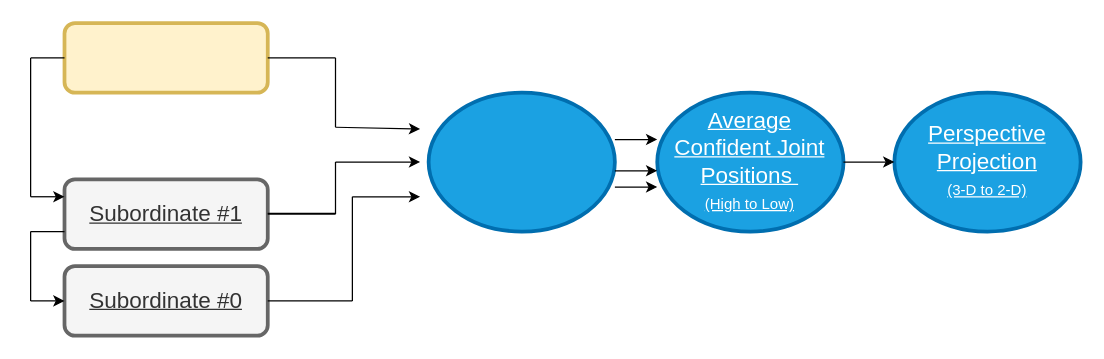
This 1104x359 diagram has some shape labels left out. The shapes that lost their labels are listed below. From the top down, each one's box as (x1, y1, x2, y2) in pixels, then its label:
(62, 21, 269, 94): Master Mode
(426, 90, 616, 233): Joint Position Transformation (Sub to Master RGB camera space)
